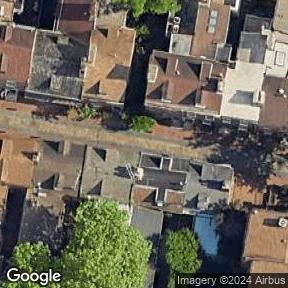vegetation: (0, 199, 152, 288), (165, 229, 201, 288), (120, 1, 179, 21), (129, 112, 155, 136), (78, 104, 95, 121), (134, 25, 149, 39)
